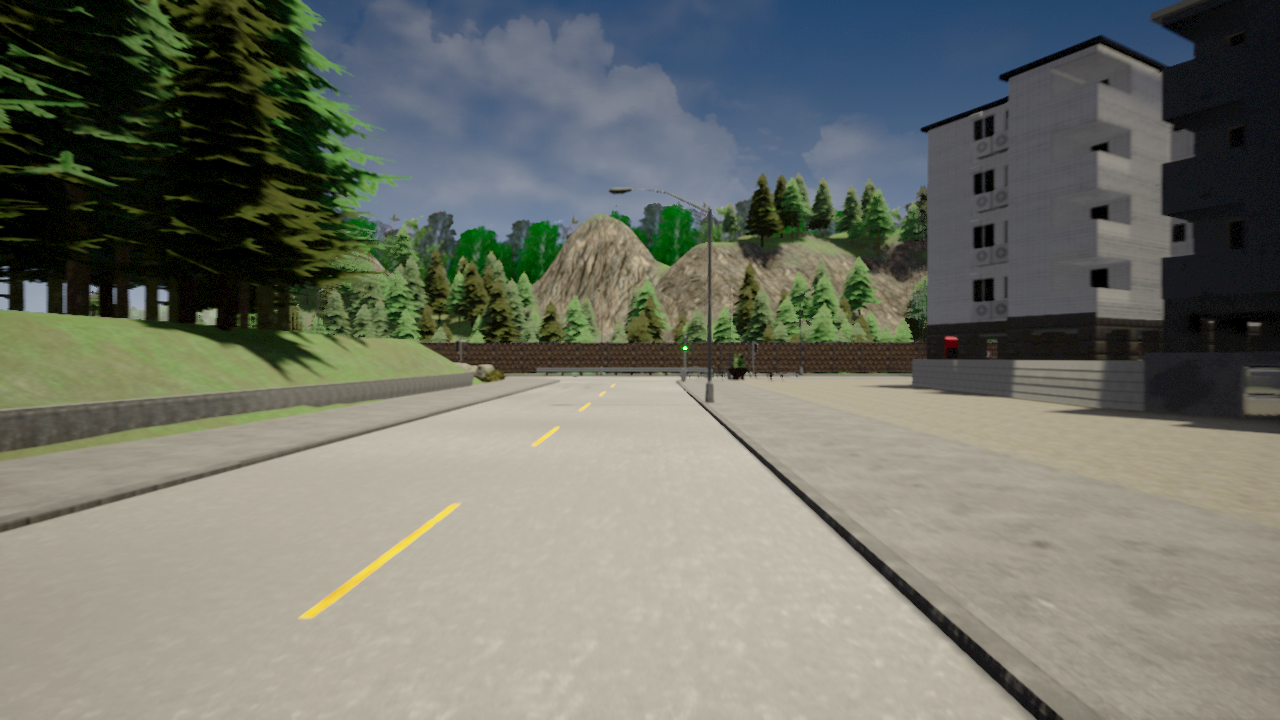green: (682, 338, 688, 351)
